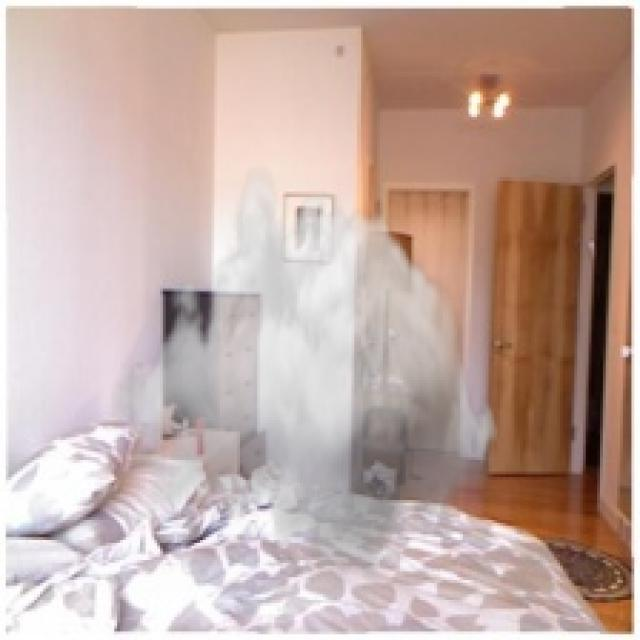Smoke: (111, 166, 503, 592)
